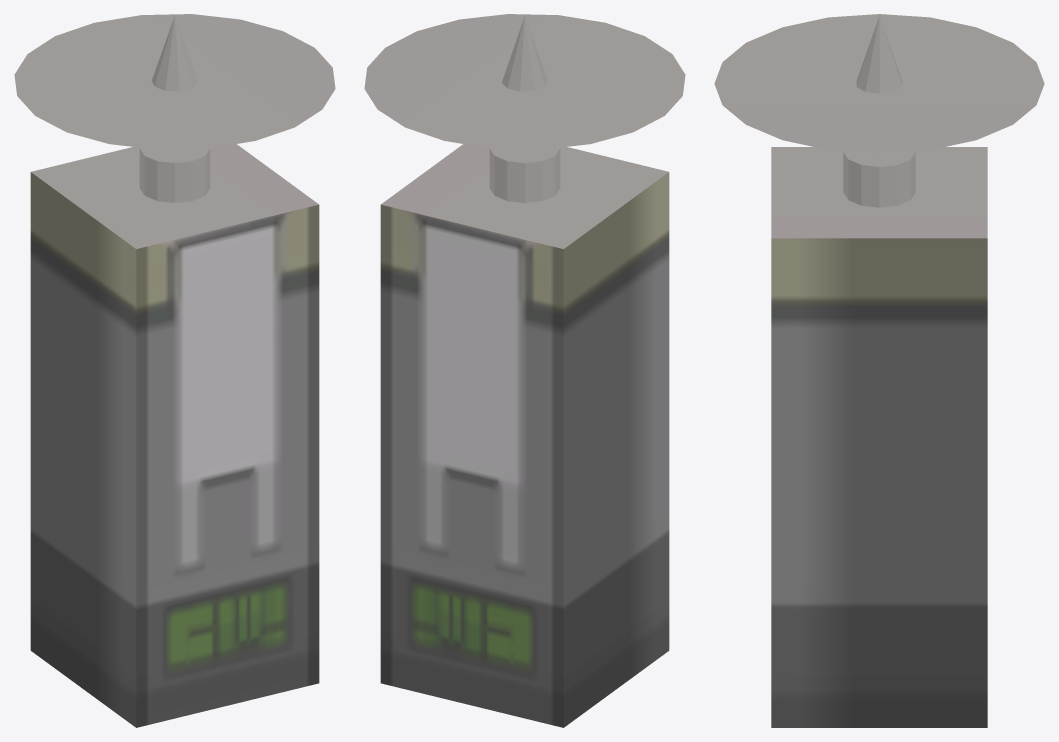
The model's file is Building_ElectricInhibitor.glb.
3 views of the same model, side by side, from view 1: azimuth 30°, elevation 25°; view 2: azimuth 150°, elevation 25°; view 3: azimuth 270°, elevation 25° (orthographic). The views are drawn at different scales.
Parts seen in each view (by area): view 1: ElectricInhibitor; view 2: ElectricInhibitor; view 3: ElectricInhibitor.
Part boxes in pixels (x1,y1,x2,y2): ElectricInhibitor: [14, 14, 335, 727]; ElectricInhibitor: [364, 14, 685, 727]; ElectricInhibitor: [714, 14, 1044, 727].
Size of the model in its own units: 1.1 by 2.45 by 1.1.
1 material, 1 textured.
